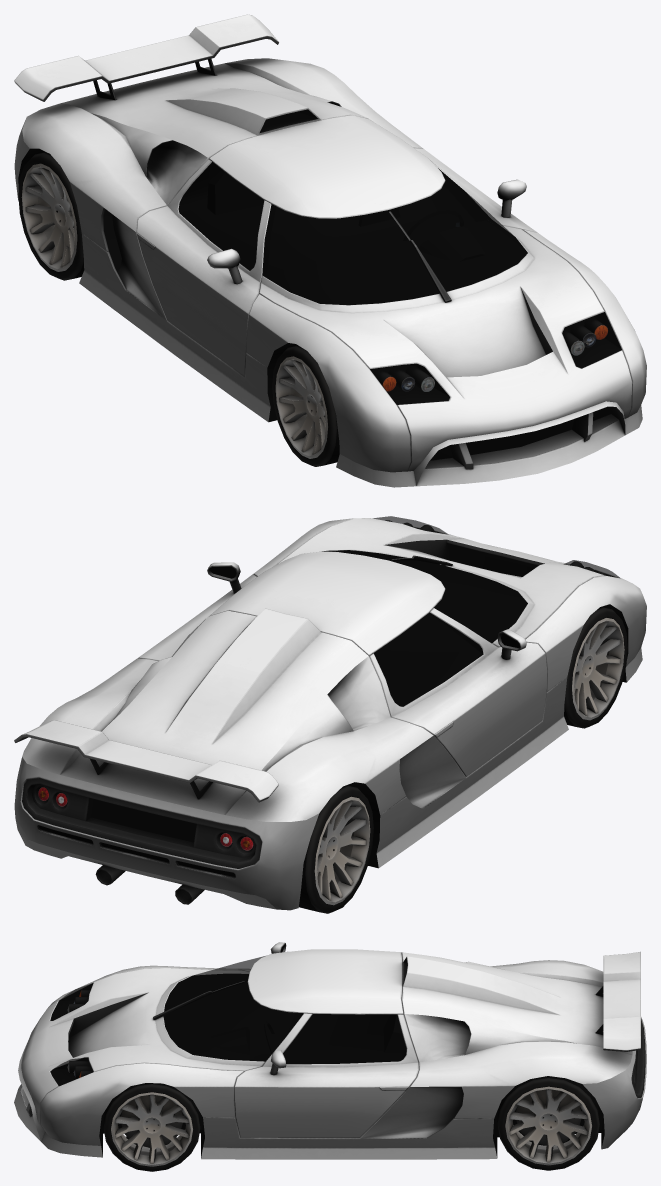
File: sport.glb
The picture shows the model from 3 angles, top to bottom: view 1: azimuth 30°, elevation 25°; view 2: azimuth 150°, elevation 25°; view 3: azimuth 270°, elevation 25°; orthographic projection. The views are drawn at different scales.
Visible parts, largest first — view 1: Sport body_Body_0, Door skin and glass (×3), Sport body_Glass_0, TyreRim (×2), Lamp head; view 2: Sport body_Body_0, Door skin and glass (×3), TyreRim (×2), Sport body_Glass_0; view 3: Sport body_Body_0, Door skin and glass (×3), TyreRim (×2), Sport body_Glass_0.
Boxes of the visible parts, box(x1,y1,x2,y2) form: Sport body_Body_0: box(14, 14, 646, 487); Door skin and glass (×3): box(143, 117, 549, 390); Sport body_Glass_0: box(262, 169, 621, 404); TyreRim (×2): box(18, 152, 339, 466); Lamp head: box(383, 325, 607, 391); Sport body_Body_0: box(14, 518, 646, 910); Door skin and glass (×3): box(146, 563, 558, 776); TyreRim (×2): box(299, 606, 627, 913); Sport body_Glass_0: box(322, 516, 619, 642); Sport body_Body_0: box(14, 942, 646, 1159); Door skin and glass (×3): box(216, 944, 406, 1140); TyreRim (×2): box(103, 1076, 599, 1171); Sport body_Glass_0: box(50, 956, 303, 1085).
Size of the model in its own units: 1.9 by 1.12 by 4.2.
6 materials, 4 textured.
